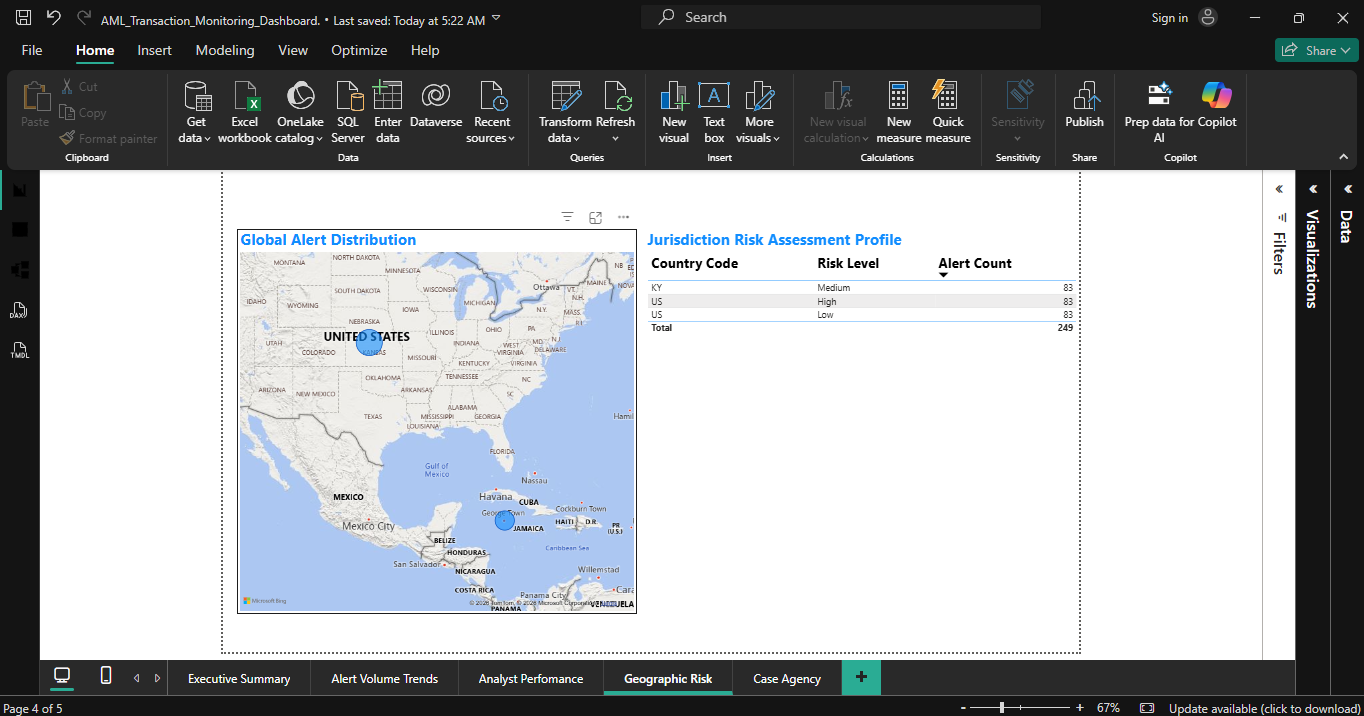

Layout of this report page (visuals, bound fields, positions):
{"tool":"powerbi","page":{"name":"Geographic Risk","canvas":[1280,720],"ordinal":3},"visuals":[{"type":"map","title":"Global Alert Distribution","fields":{"Category":["Alerts.Country_Code"],"Size":["CountNonNull(Alerts.Total Alerts Flagged)"]},"box":[20.9,88.1,597.5,575.1],"z":0},{"type":"tableEx","title":"Jurisdiction Risk Assessment Profile","fields":{"Values":["Alerts.Country_Code","Alerts.Risk_Level","Alerts.Total Alerts Flagged"]},"box":[628.9,88.1,651.3,575.1],"z":1000}]}

Visuals, with their boxes on the page's 1280x720 design canvas (x1, y1, x2, y2). These are canvas units, not pixel positions in the 1364x716 screenshot, which may show the page scaled, cropped or inside an application window:
"Global Alert Distribution" map: [left=21, top=88, right=618, bottom=663]
"Jurisdiction Risk Assessment Profile" tableEx: [left=629, top=88, right=1280, bottom=663]
